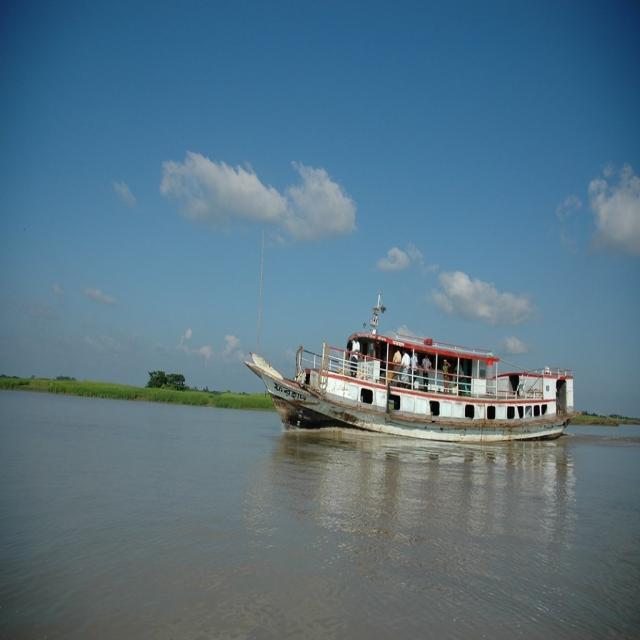boat: (240, 334, 586, 449)
